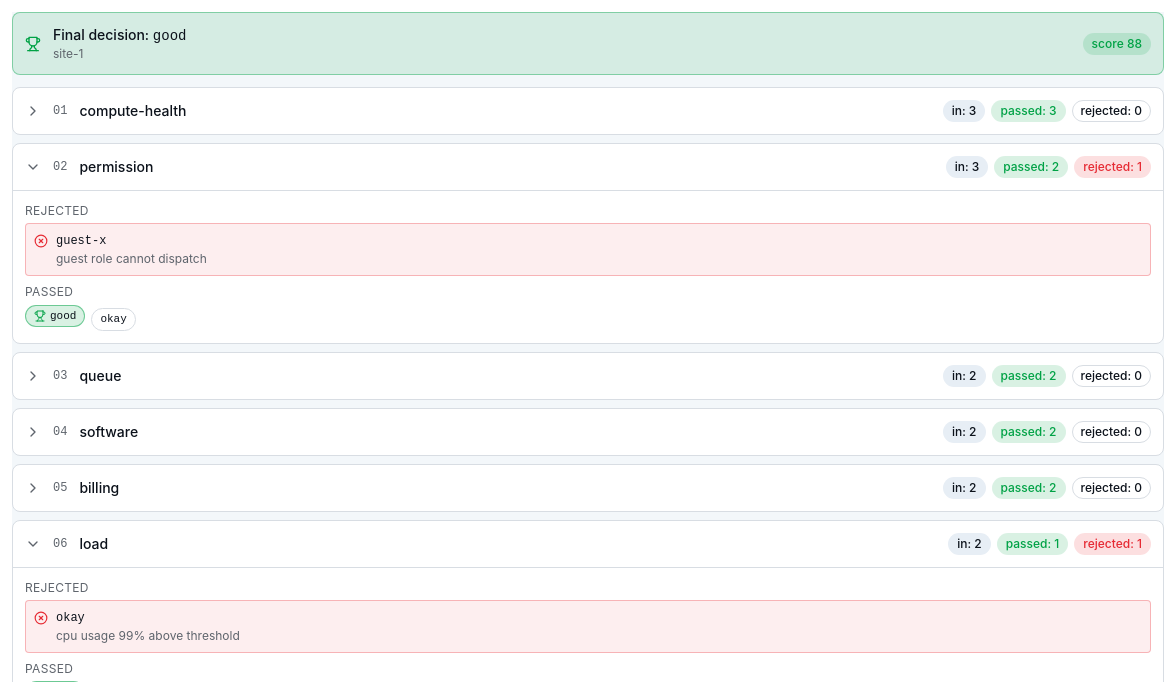
Test: PlacementPipelineView › a stage row toggles open/closed when its header is clicked
Check: the element with test id "placement-rejected-permission" is shown, box 25,203 -> 1151,276
Step 1. Click the button with test id "placement-stage-toggle-permission" → click(116, 166), box 13,144 -> 1163,190
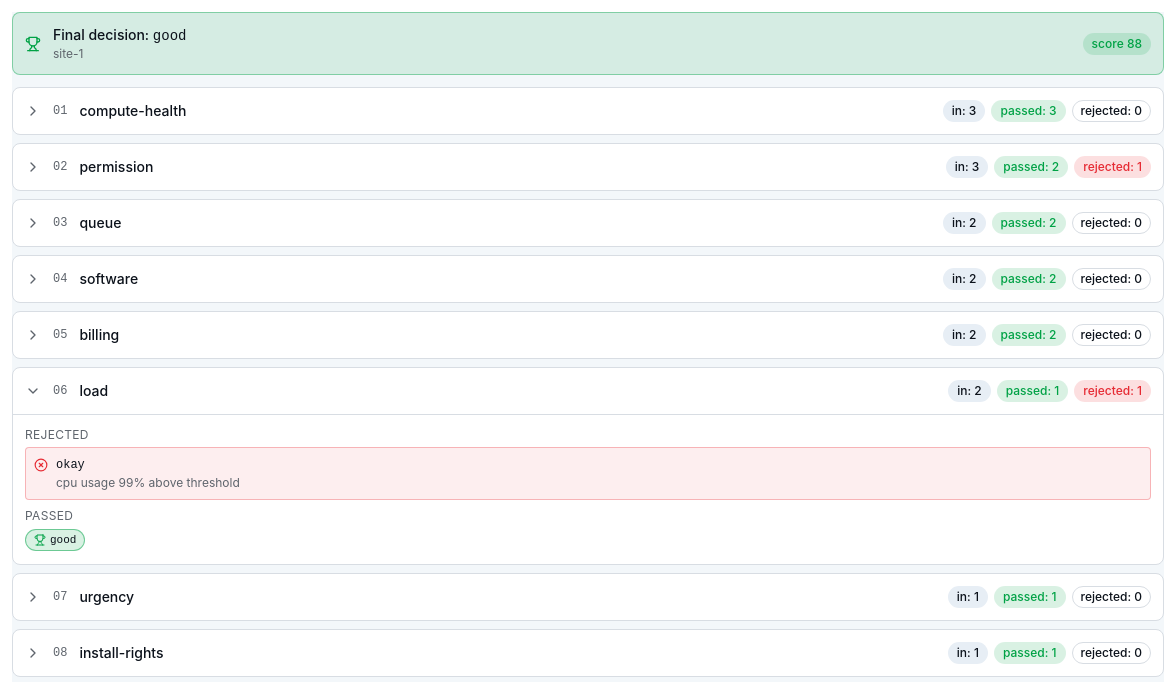
Check: the element with test id "placement-rejected-permission" is gone
Step 2. Click the button with test id "placement-stage-toggle-permission" → click(116, 166), box 13,144 -> 1163,190
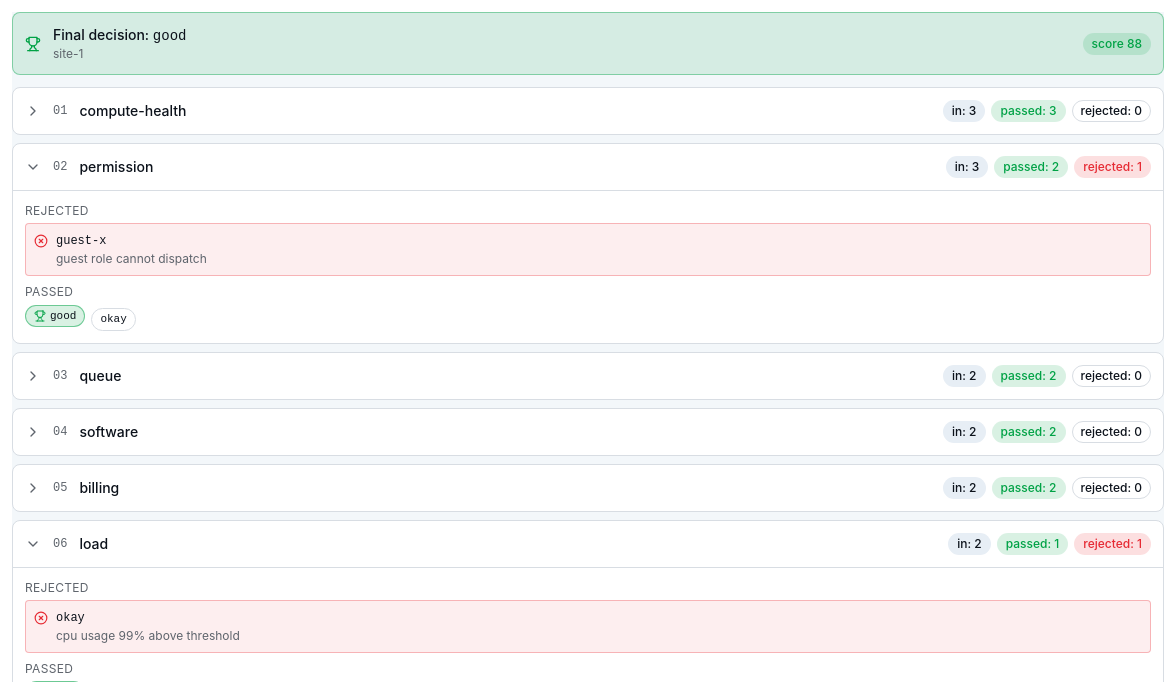
Check: the element with test id "placement-rejected-permission" is shown, box 25,203 -> 1151,276
